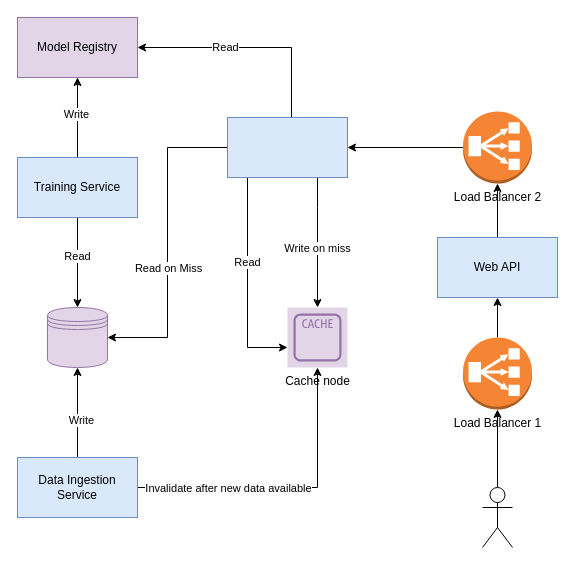
Image size: 575x586. Some labels were removed from this diagram. Each missing label, with the centre of its shape:
Data DB: pixel 77 337
Prediction Service: pixel 287 147
User: pixel 497 517
